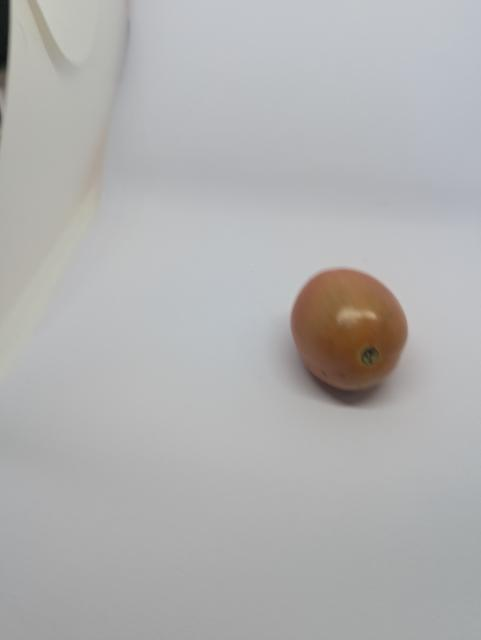turning: (291, 259, 412, 406)
